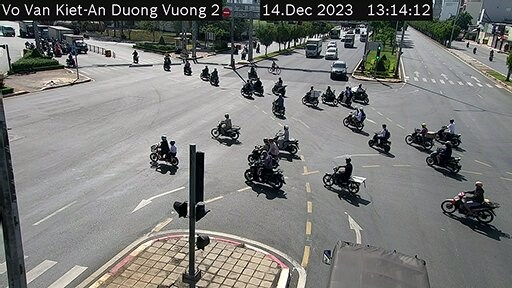car: (328, 61, 346, 81), (323, 49, 338, 60)
motorbike: (329, 157, 366, 199), (449, 185, 491, 222), (428, 143, 464, 183), (247, 155, 281, 193), (433, 114, 465, 146), (212, 113, 240, 146), (271, 124, 298, 151), (302, 82, 324, 112), (410, 122, 436, 147), (353, 81, 374, 109), (345, 107, 372, 128), (336, 84, 356, 111), (270, 77, 288, 99), (320, 85, 335, 111), (273, 93, 287, 120), (238, 77, 256, 96), (211, 68, 218, 88)
truck: (308, 36, 322, 61), (342, 34, 356, 49)
